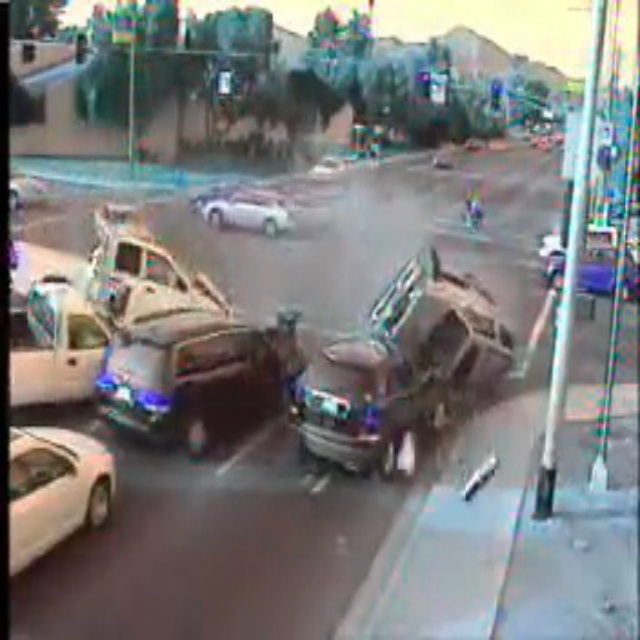acc: (8, 193, 511, 482)
